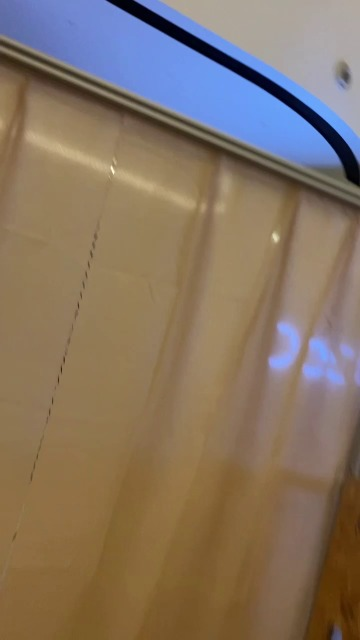curtain: (0, 64, 360, 640)
